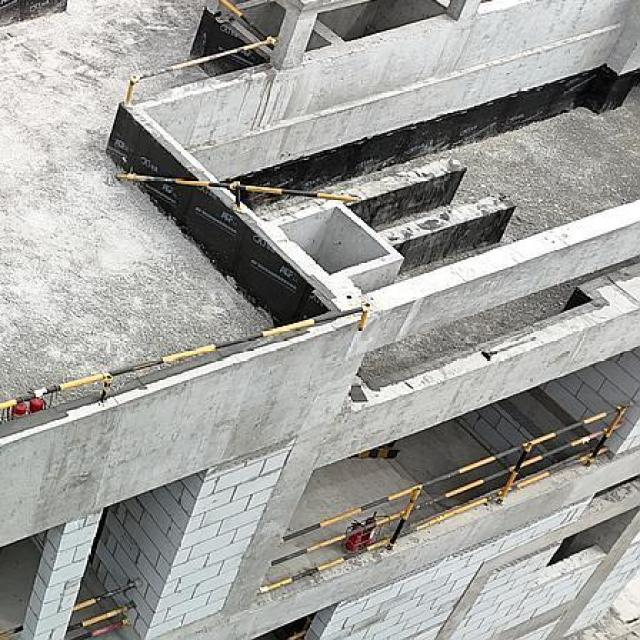Guardrail: (254, 404, 640, 596), (0, 301, 370, 409), (124, 0, 278, 104), (115, 172, 362, 207), (0, 581, 137, 640)
